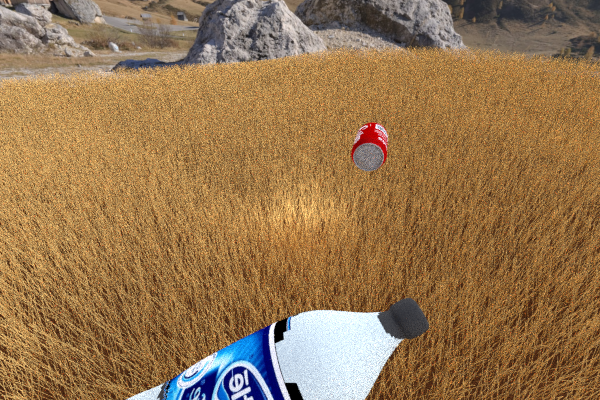Plastic Bottle: (19, 297, 428, 400), (57, 92, 115, 128), (351, 122, 387, 171)
